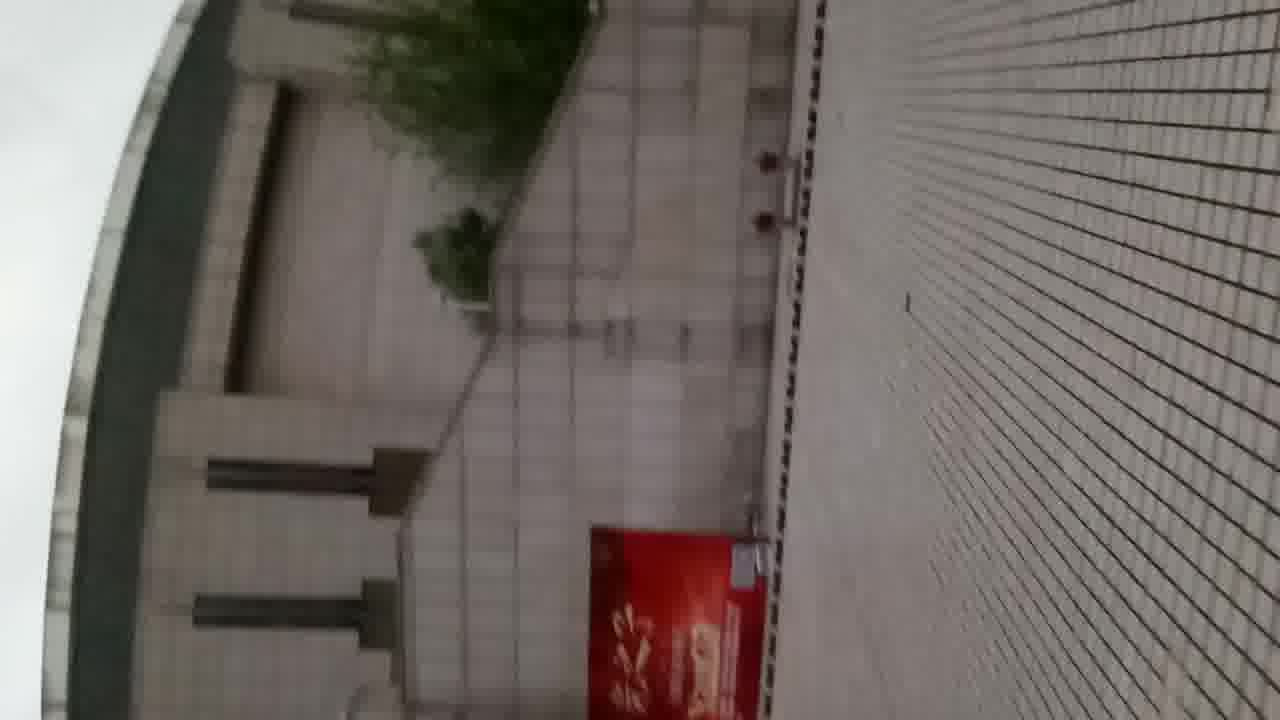zhongtiww: (20, 10, 805, 720)
